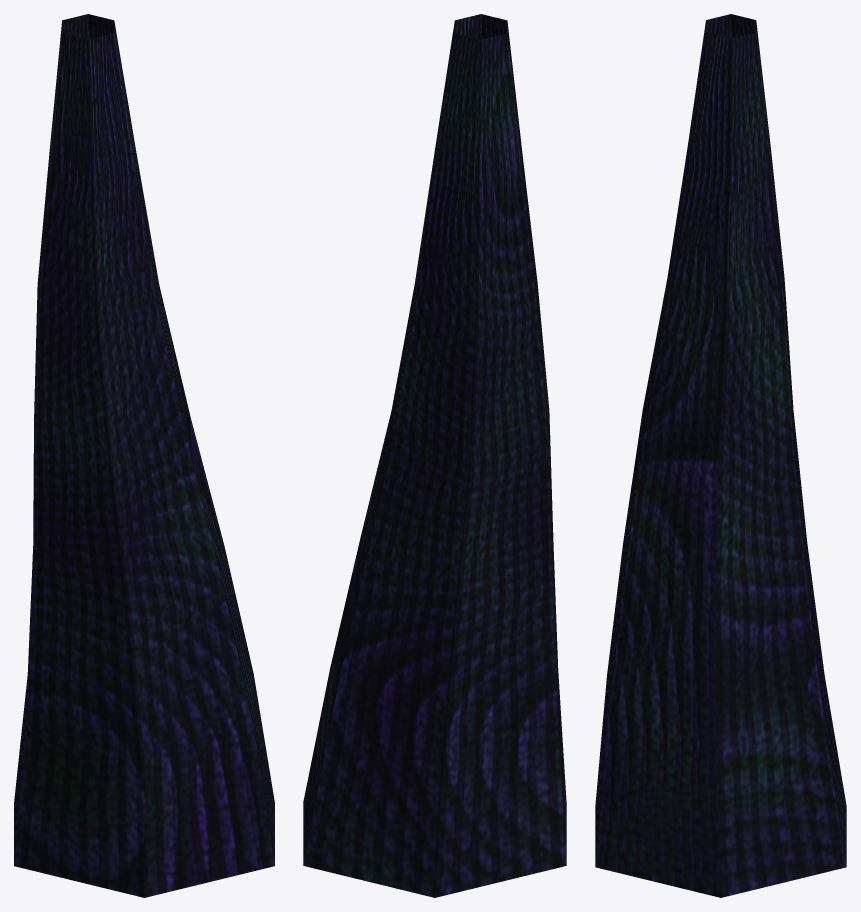
File: neontree.obj
3 renders of one model, left to right at view 1: azimuth 30°, elevation 25°; view 2: azimuth 150°, elevation 25°; view 3: azimuth 270°, elevation 25°, orthographic. The views are drawn at different scales.
Size of the model in its own units: 2 by 5.98 by 1.73.
